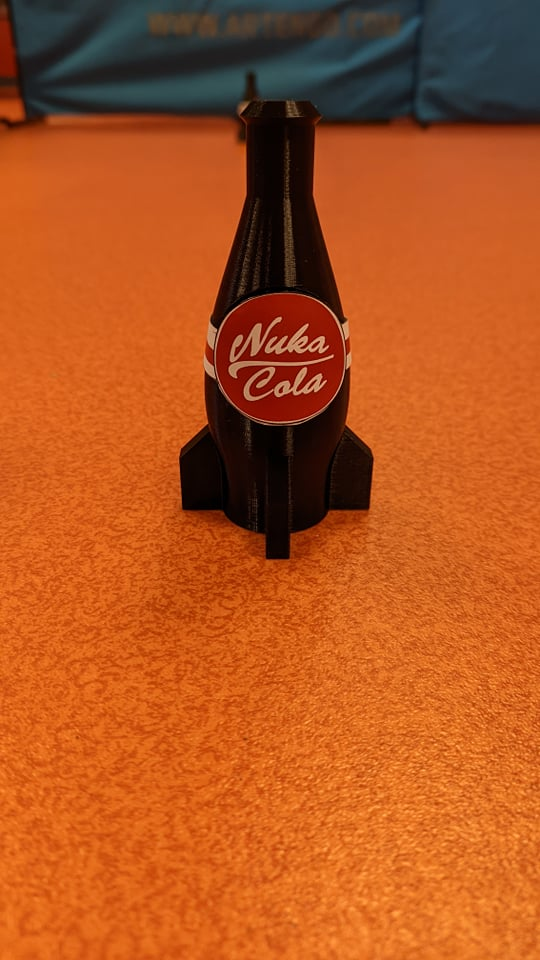bottle: (168, 78, 385, 584)
